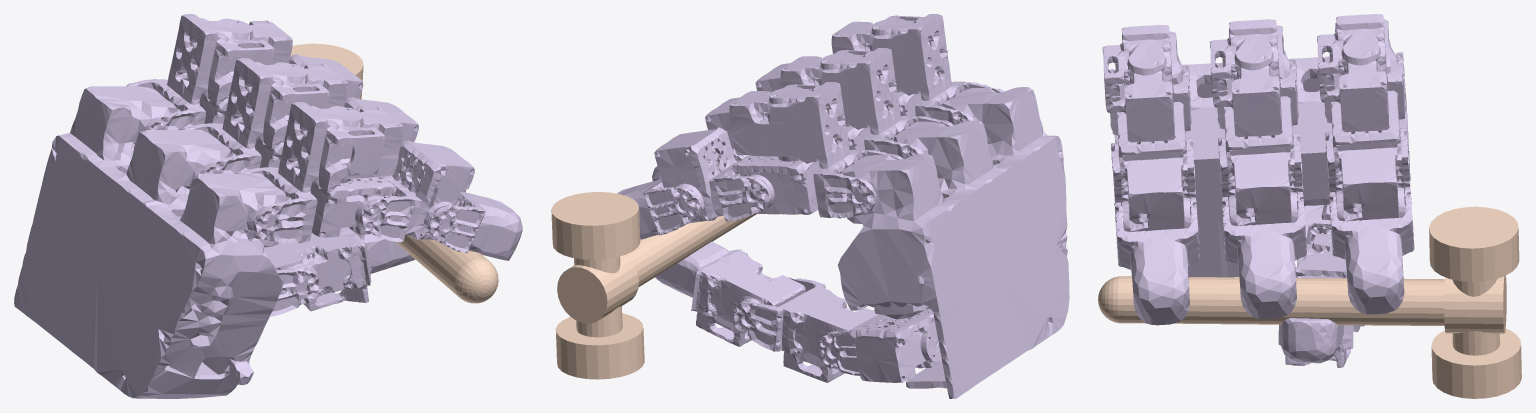
3 views of the same model, side by side, from view 1: azimuth 30°, elevation 25°; view 2: azimuth 150°, elevation 25°; view 3: azimuth 270°, elevation 25° (orthographic). The views are drawn at different scales.
Visible parts, largest first — view 1: LEAP_hand, world; view 2: LEAP_hand, world; view 3: LEAP_hand, world.
Part boxes in pixels (bbox=[...]): LEAP_hand: bbox=[14, 14, 522, 398]; world: bbox=[290, 43, 498, 303]; LEAP_hand: bbox=[617, 14, 1069, 398]; world: bbox=[551, 192, 756, 379]; LEAP_hand: bbox=[1102, 14, 1414, 367]; world: bbox=[1098, 206, 1521, 398].
Size of the model in its own units: 0.1838 by 0.1394 by 0.1794.
